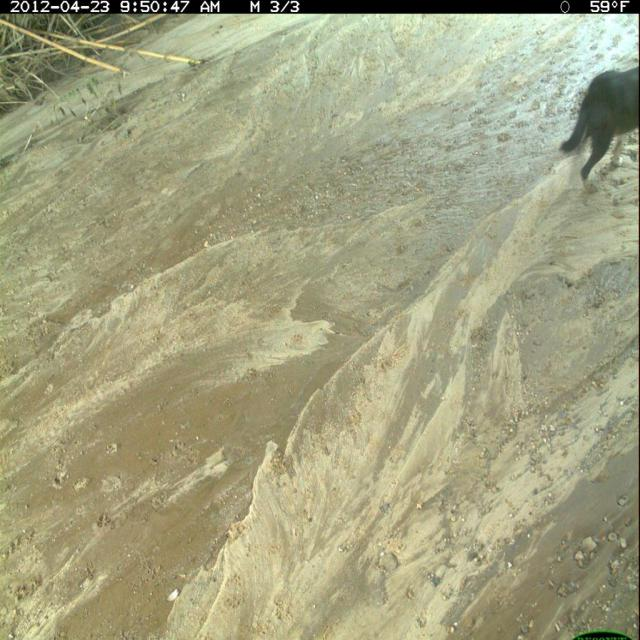dog: (558, 65, 640, 198)
